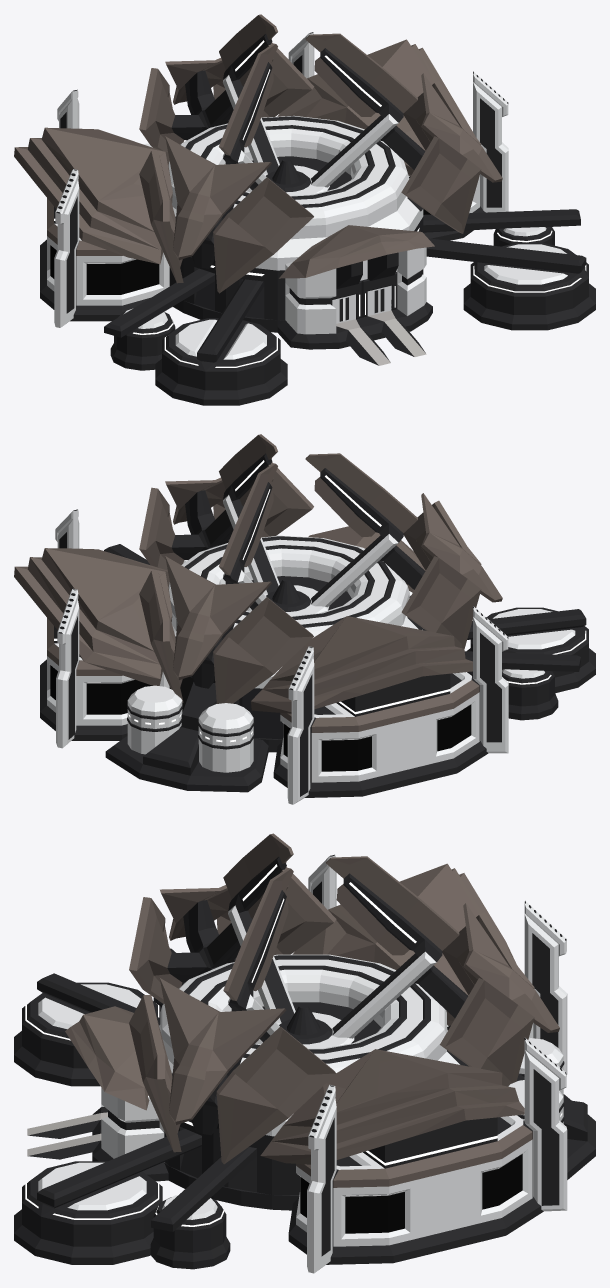
Rendered from GasCentrifuge.fbx.
The picture shows the model from 3 angles, top to bottom: view 1: azimuth 30°, elevation 25°; view 2: azimuth 150°, elevation 25°; view 3: azimuth 270°, elevation 25°; orthographic projection. The views are drawn at different scales.
Parts seen in each view (by area): view 1: GasСentrifuge_Body, GasСentrifuge_Roof, GasСentrifuge_Parts.002, GasСentrifuge_Parts.001, GasСentrifuge_Foundation, GasСentrifuge_Circle, GasСentrifuge_Parts, GasСentrifuge_Chimney, GasСentrifuge_Door; view 2: GasСentrifuge_Body, GasСentrifuge_Roof, GasСentrifuge_Parts, GasСentrifuge_Parts.002, GasСentrifuge_Chimney, GasСentrifuge_Parts.001, GasСentrifuge_Circle, GasСentrifuge_Foundation, GasСentrifuge_Cylinder; view 3: GasСentrifuge_Body, GasСentrifuge_Roof, GasСentrifuge_Parts.001, GasСentrifuge_Parts, GasСentrifuge_Foundation, GasСentrifuge_Parts.002, GasСentrifuge_Chimney, GasСentrifuge_Circle, GasСentrifuge_Cylinder.
Boxes of the visible parts, x1,y1,x2,y2 form: GasСentrifuge_Body: [47, 175, 588, 390]; GasСentrifuge_Roof: [14, 39, 474, 278]; GasСentrifuge_Parts.002: [139, 43, 313, 293]; GasСentrifuge_Parts.001: [305, 33, 502, 233]; GasСentrifuge_Foundation: [40, 206, 595, 405]; GasСentrifuge_Circle: [168, 115, 409, 239]; GasСentrifuge_Parts: [139, 14, 314, 174]; GasСentrifuge_Chimney: [54, 32, 508, 327]; GasСentrifuge_Door: [332, 286, 391, 323]; GasСentrifuge_Body: [47, 544, 588, 782]; GasСentrifuge_Roof: [14, 526, 472, 713]; GasСentrifuge_Parts: [139, 463, 313, 703]; GasСentrifuge_Parts.002: [305, 453, 502, 648]; GasСentrifuge_Chimney: [55, 509, 508, 804]; GasСentrifuge_Parts.001: [139, 434, 313, 594]; GasСentrifuge_Circle: [168, 535, 409, 637]; GasСentrifuge_Foundation: [40, 648, 595, 797]; GasСentrifuge_Cylinder: [127, 682, 254, 775]; GasСentrifuge_Body: [22, 948, 533, 1252]; GasСentrifuge_Roof: [65, 863, 524, 1164]; GasСentrifuge_Parts.001: [129, 868, 336, 1164]; GasСentrifuge_Parts: [326, 856, 559, 1086]; GasСentrifuge_Foundation: [14, 1031, 595, 1269]; GasСentrifuge_Parts.002: [129, 833, 336, 1023]; GasСentrifuge_Chimney: [307, 854, 567, 1273]; GasСentrifuge_Circle: [160, 954, 446, 1072]; GasСentrifuge_Cylinder: [465, 1038, 587, 1141].
Size of the model in its own units: 4003 by 3583 by 1939.
